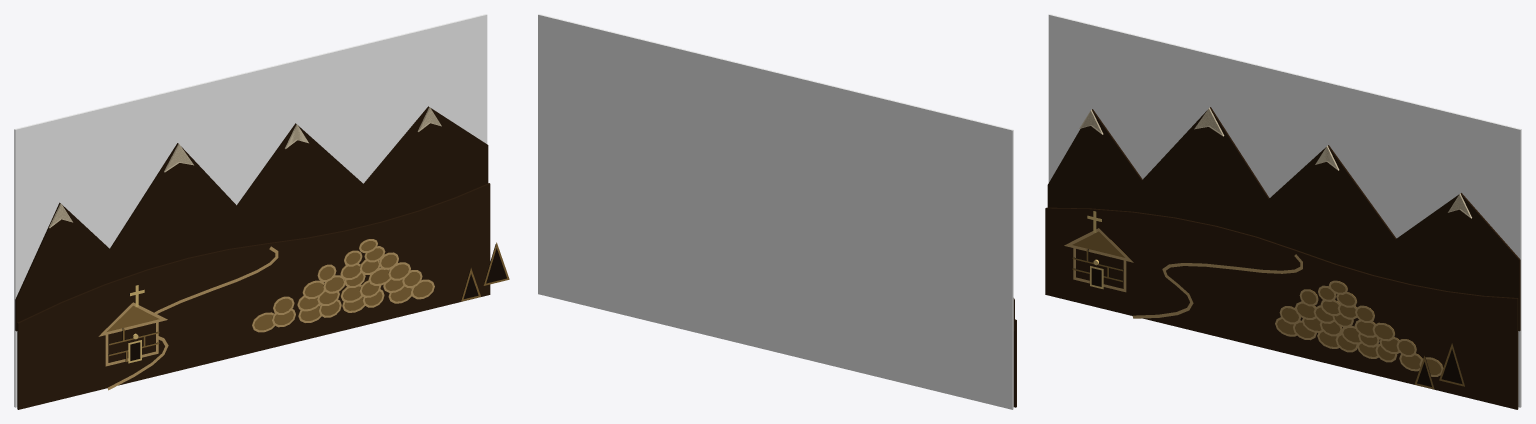
Rendered from loc-pereval-santash.glb.
3 views of the same model, side by side, from view 1: azimuth 30°, elevation 25°; view 2: azimuth 150°, elevation 25°; view 3: azimuth 330°, elevation 25° (orthographic).
Visible parts, largest first — view 1: loc-pereval-santash; view 2: loc-pereval-santash; view 3: loc-pereval-santash.
Part boxes in pixels (left/top/right/bottom): loc-pereval-santash: left=14, top=14, right=509, bottom=409; loc-pereval-santash: left=538, top=14, right=1016, bottom=409; loc-pereval-santash: left=1045, top=14, right=1521, bottom=409.
Bounding box in the file's own units: 5.33 × 3.02 × 0.801.
